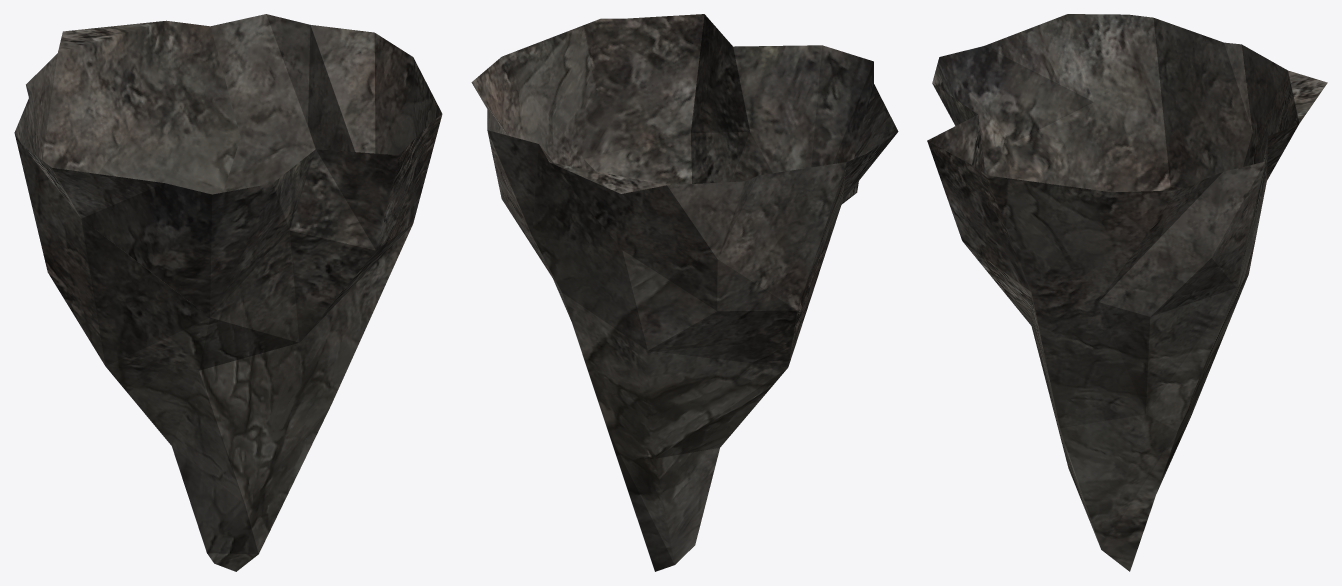
The model's file is DN_Cave_Stone_b.FBX.
The picture shows the model from 3 angles, left to right: view 1: azimuth 30°, elevation 25°; view 2: azimuth 150°, elevation 25°; view 3: azimuth 270°, elevation 25°; orthographic projection. The views are drawn at different scales.
Parts seen in each view (by area): view 1: DN_Cave_Stone_b; view 2: DN_Cave_Stone_b; view 3: DN_Cave_Stone_b.
Boxes of the visible parts, <box> form: DN_Cave_Stone_b: <box>14,14,442,571</box>; DN_Cave_Stone_b: <box>471,14,898,571</box>; DN_Cave_Stone_b: <box>927,14,1327,571</box>.
Size of the model in its own units: 2.69 by 3.21 by 2.55.
